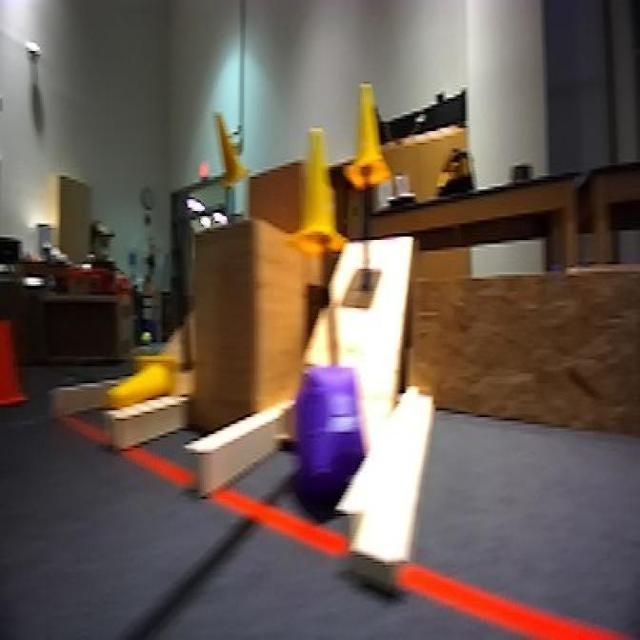frc_cone: (290, 118, 346, 254), (100, 354, 178, 415), (344, 82, 388, 189), (214, 109, 250, 187)
frc_cube: (297, 362, 372, 498)
